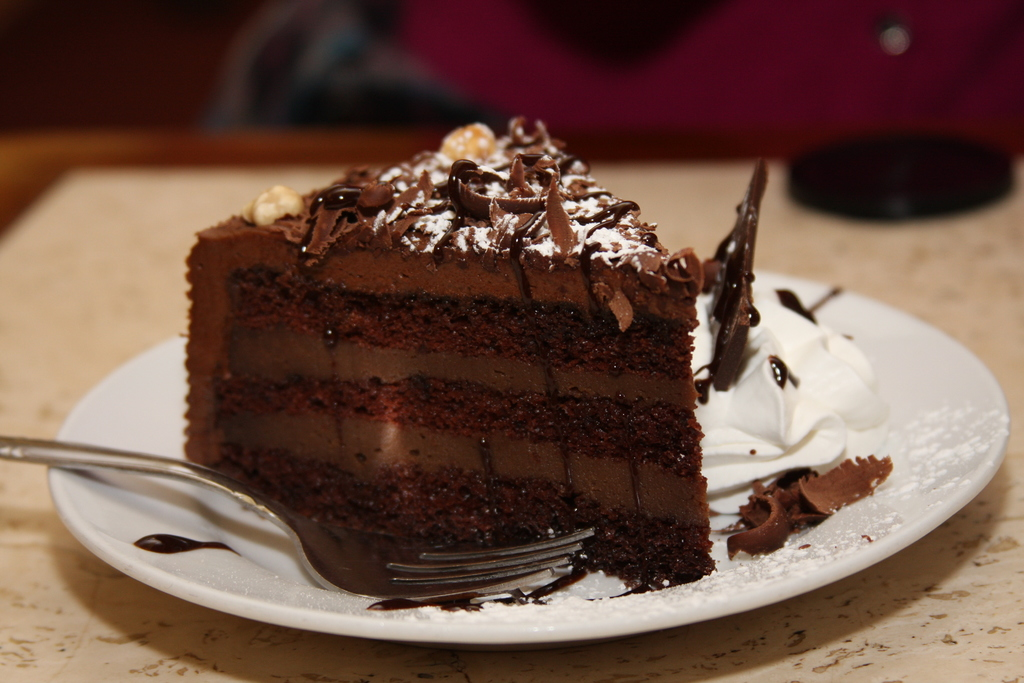cake: (181, 114, 705, 580)
